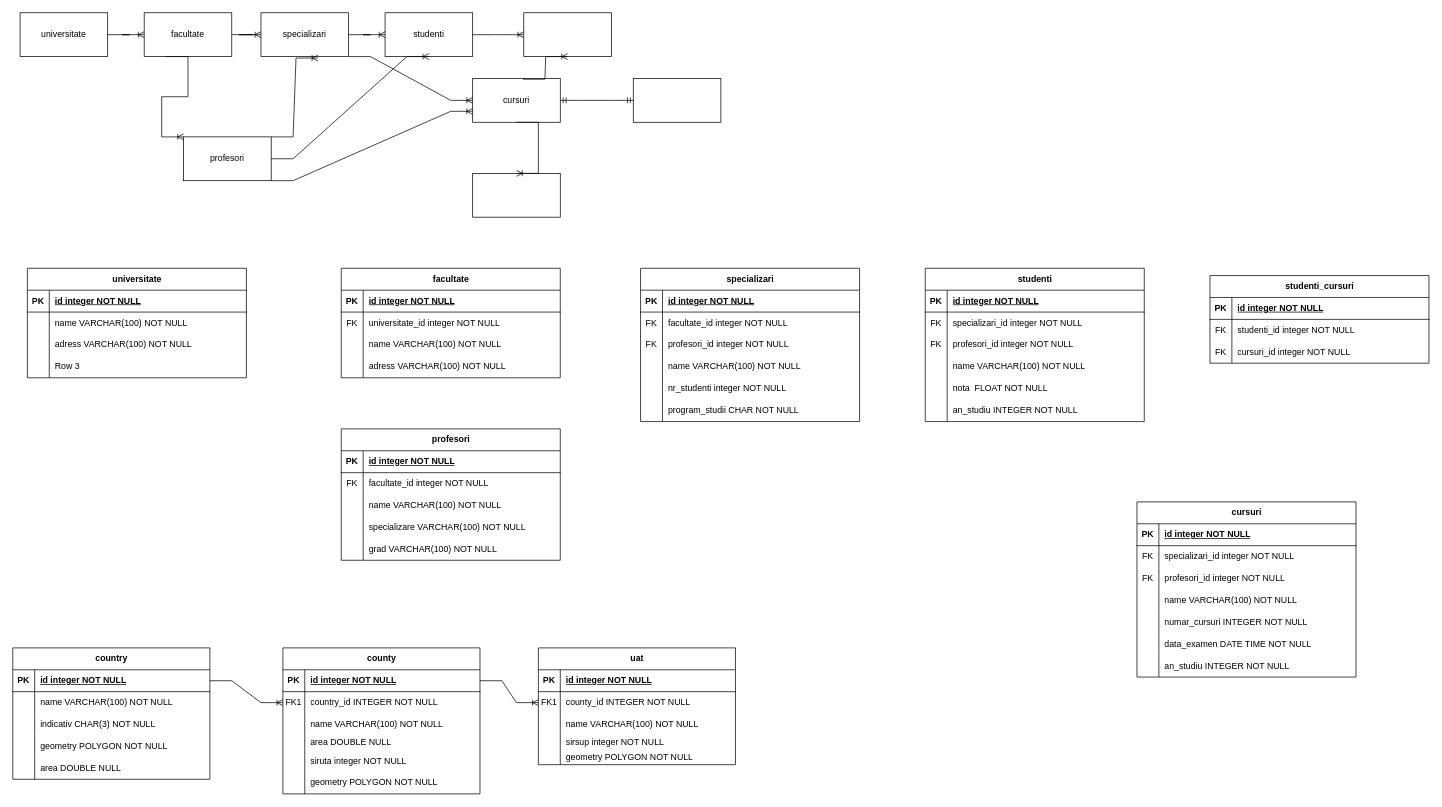
The diagram is 1442 pixels wide and 807 high, and some of its shapes have lost their labels. Each missing label, with the centre of its shape:
"cursuri_studenti" goes at (x=567, y=34).
"examen" goes at (x=677, y=100).
"proiecte" goes at (x=516, y=195).
